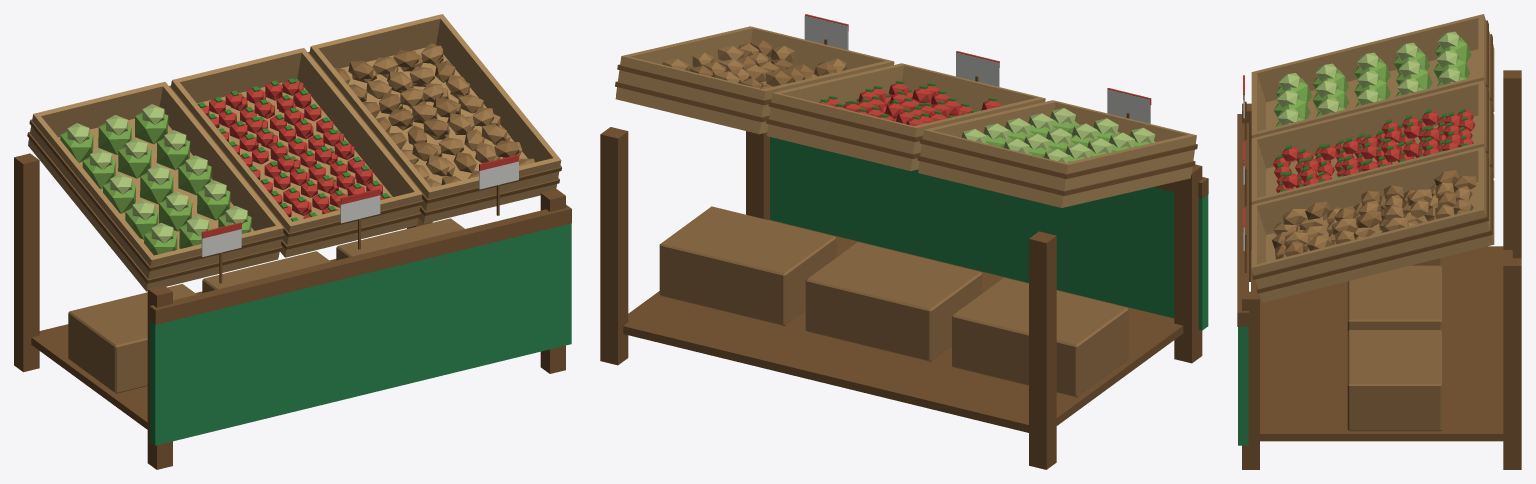
File: ke_rau_qua_2.glb
The picture shows the model from 3 angles, left to right: view 1: azimuth 30°, elevation 25°; view 2: azimuth 150°, elevation 25°; view 3: azimuth 270°, elevation 25°; orthographic projection. The views are drawn at different scales.
Visible parts, largest first — view 1: ke_rau_qua_2; view 2: ke_rau_qua_2; view 3: ke_rau_qua_2.
Boxes of the visible parts, box(x1,y1,x2,y2) form: ke_rau_qua_2: box(14, 14, 571, 469); ke_rau_qua_2: box(600, 14, 1208, 469); ke_rau_qua_2: box(1237, 14, 1521, 469).
Bounding box in the file's own units: 1.8 × 1.1 × 1.09.
